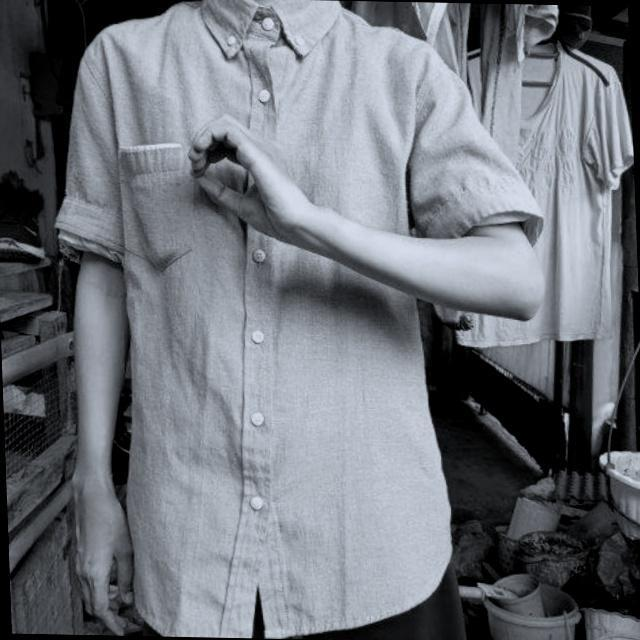O: (182, 108, 296, 244)
